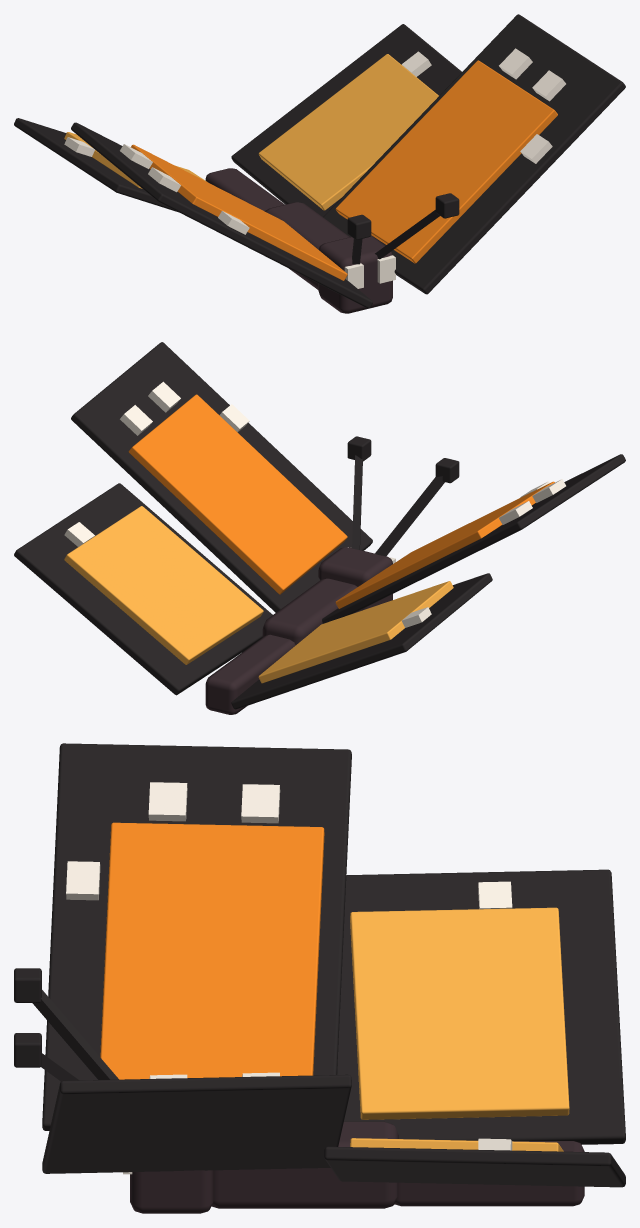
Rendered from butterfly-poly-by-google_2ZwYwkTVnfG-blocky.glb.
3 renders of one model, top to bottom at view 1: azimuth 30°, elevation 25°; view 2: azimuth 150°, elevation 25°; view 3: azimuth 270°, elevation 25°, orthographic. The views are drawn at different scales.
Visible parts, largest first — view 1: butterfly; view 2: butterfly; view 3: butterfly.
Part boxes in pixels (box(x1,y1,x2,y2)): butterfly: box(14, 14, 625, 313); butterfly: box(14, 342, 625, 714); butterfly: box(14, 743, 625, 1213).
Size of the model in its own units: 1.36 by 0.5283 by 1.02.
1 material, 1 textured.
